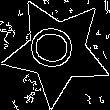O_E: (30, 27, 84, 76)
